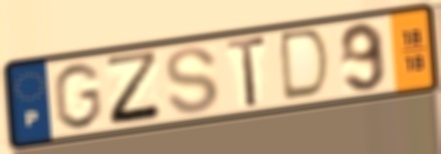9: (337, 20, 387, 94)
D: (279, 26, 334, 105)
G: (50, 60, 104, 132)
S: (162, 44, 222, 117)
T: (224, 33, 269, 111)
Z: (102, 48, 166, 129)
